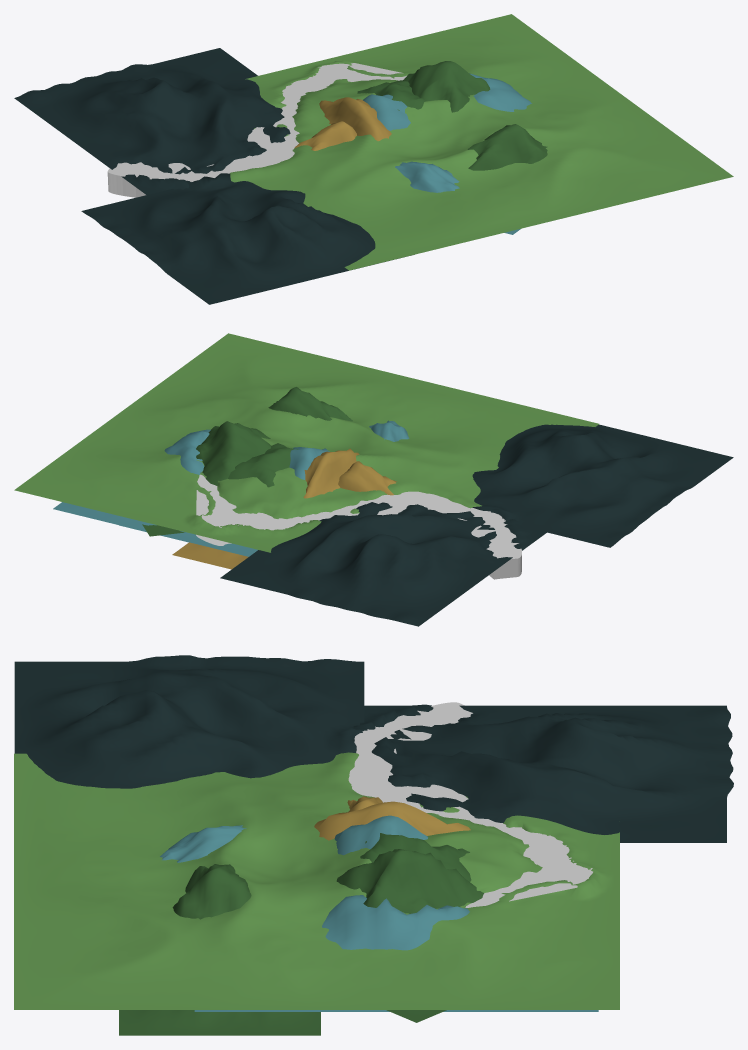
The model's file is grassland_terrain.fbx.
3 views of the same model, one above another, from view 1: azimuth 30°, elevation 25°; view 2: azimuth 150°, elevation 25°; view 3: azimuth 270°, elevation 25° (orthographic). The views are drawn at different scales.
Visible parts, largest first — view 1: Landscape, Landscape_6, Landscape_10, River, Landscape_5, Landscape_8, Landscape_2, Landscape_7, Landscape_4, Landscape_9, Landscape_1, Landscape_3; view 2: Landscape, Landscape_6, Landscape_10, River, Landscape_5, Landscape_2, Landscape_4, Landscape_3, Landscape_8, Landscape_1, Landscape_9, Landscape_7; view 3: Landscape, Landscape_10, Landscape_6, River, Landscape_8, Landscape_5, Landscape_4, Landscape_2, Landscape_9, Landscape_3, Landscape_7.
Boxes of the visible parts, x1,y1,x2,y2 form: Landscape: (230,14,733,270); Landscape_6: (14,48,290,194); Landscape_10: (81,173,414,304); River: (107,63,406,197); Landscape_5: (403,61,490,112); Landscape_8: (467,124,547,170); Landscape_2: (319,97,391,141); Landscape_7: (395,161,520,234); Landscape_4: (469,73,531,111); Landscape_9: (363,94,410,130); Landscape_1: (294,121,356,150); Landscape_3: (357,80,426,110); Landscape: (14,333,598,552); Landscape_6: (220,502,546,626); Landscape_10: (472,424,733,547); River: (196,474,521,579); Landscape_5: (142,421,270,536); Landscape_2: (172,448,359,569); Landscape_4: (53,429,257,556); Landscape_3: (228,443,298,487); Landscape_8: (268,387,352,421); Landscape_1: (338,461,396,495); Landscape_9: (119,447,329,542); Landscape_7: (369,420,409,441); Landscape: (14,752,619,1009); Landscape_10: (14,655,367,788); Landscape_6: (353,704,733,842); River: (348,702,592,907); Landscape_8: (119,864,320,1035); Landscape_5: (336,849,484,1022); Landscape_4: (194,895,598,1011); Landscape_2: (314,801,470,840); Landscape_9: (334,815,428,855); Landscape_3: (360,833,471,881); Landscape_7: (160,825,246,862).
Bounding box in the file's own units: 20483 × 3193 × 17820.
